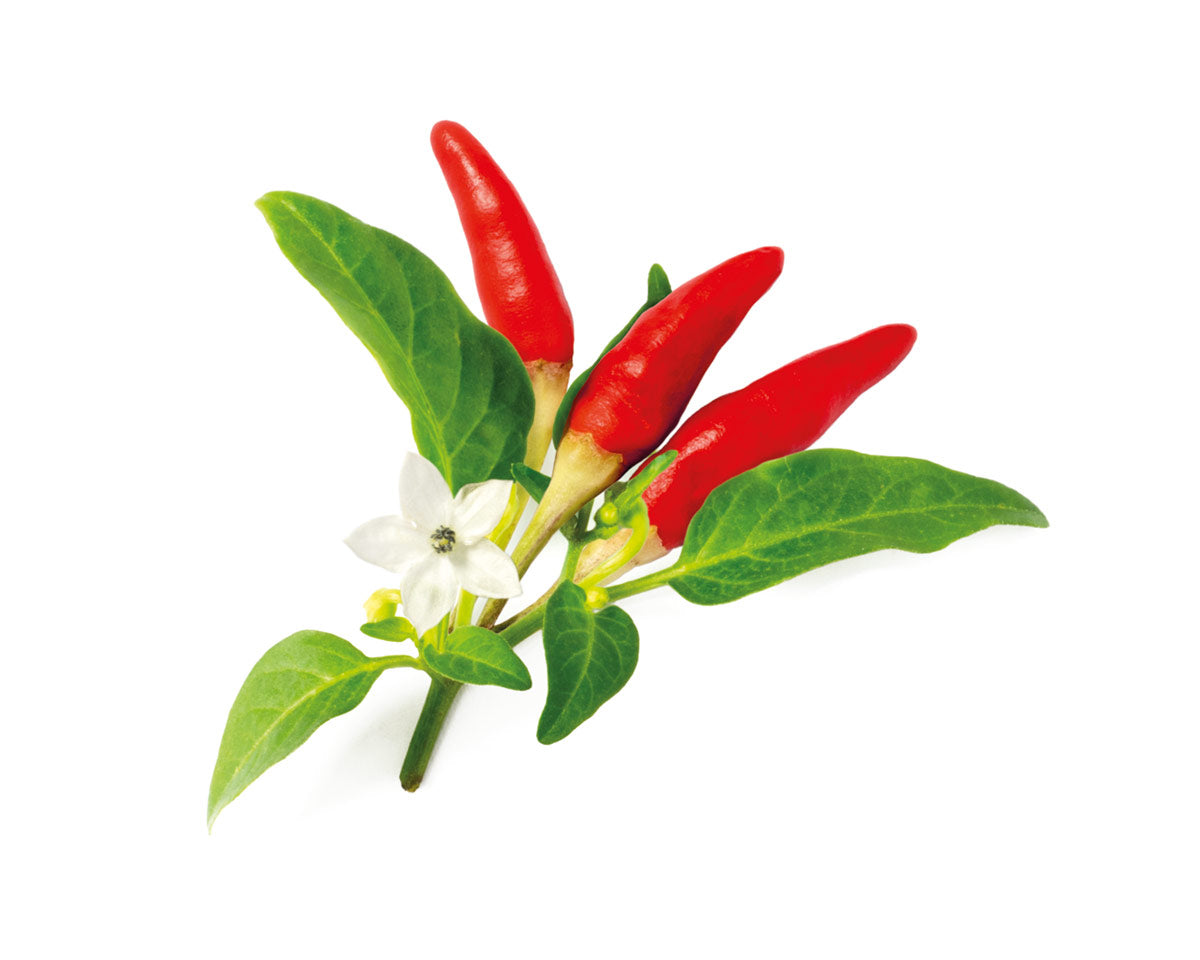Cabai: (131, 63, 1079, 915)
